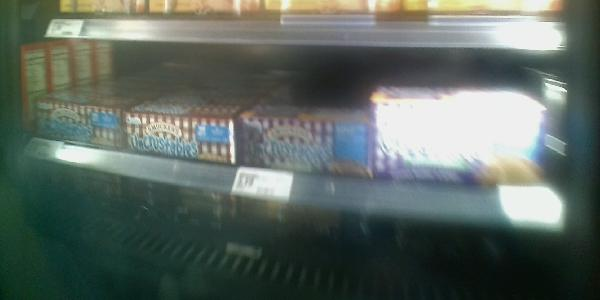icecream: (372, 94, 548, 186), (236, 110, 373, 176), (124, 106, 240, 166), (30, 96, 122, 146)
